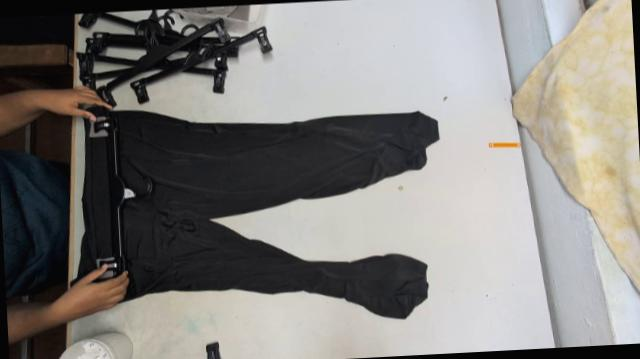new-garment: (78, 105, 438, 317)
